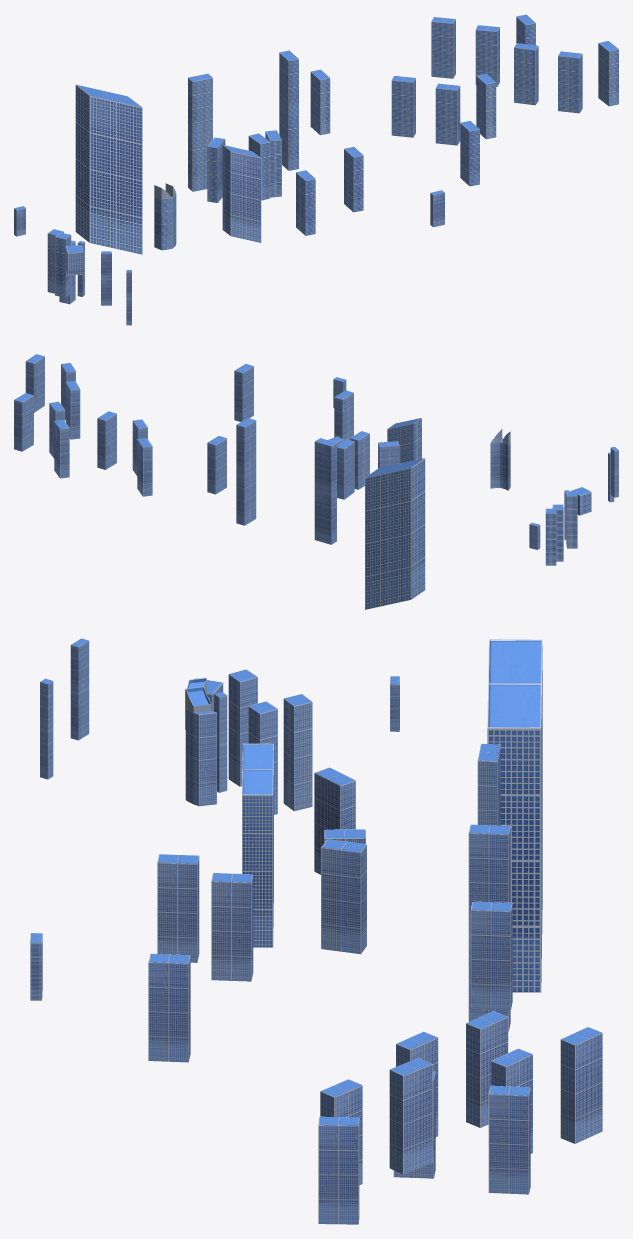
Rendered from Building_C.gltf.
3 views of the same model, one above another, from view 1: azimuth 30°, elevation 25°; view 2: azimuth 150°, elevation 25°; view 3: azimuth 270°, elevation 25° (orthographic). The views are drawn at different scales.
Visible parts, largest first — view 1: Building_C; view 2: Building_C; view 3: Building_C.
Part boxes in pixels (x1,y1,x2,y2): Building_C: [14, 14, 618, 325]; Building_C: [14, 354, 618, 609]; Building_C: [30, 638, 602, 1224].
Size of the model in its own units: 16.24 by 4.54 by 7.66.
1 material, 1 textured.
